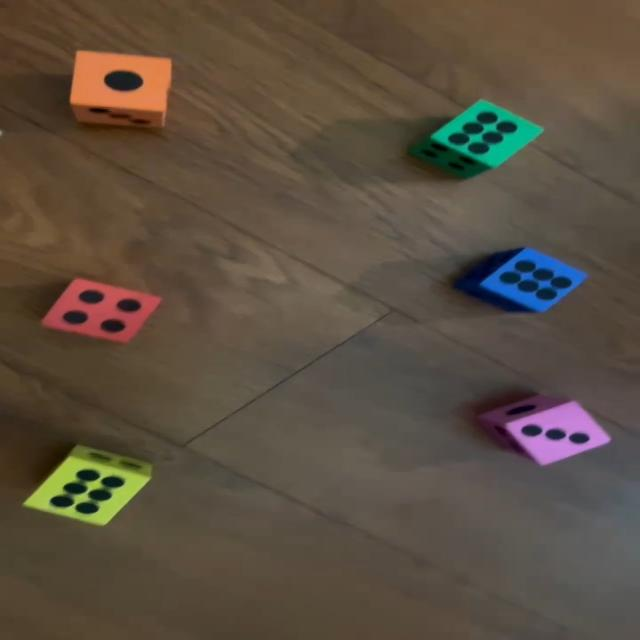blue_block: (454, 248, 590, 311)
red_block: (40, 278, 164, 344)
